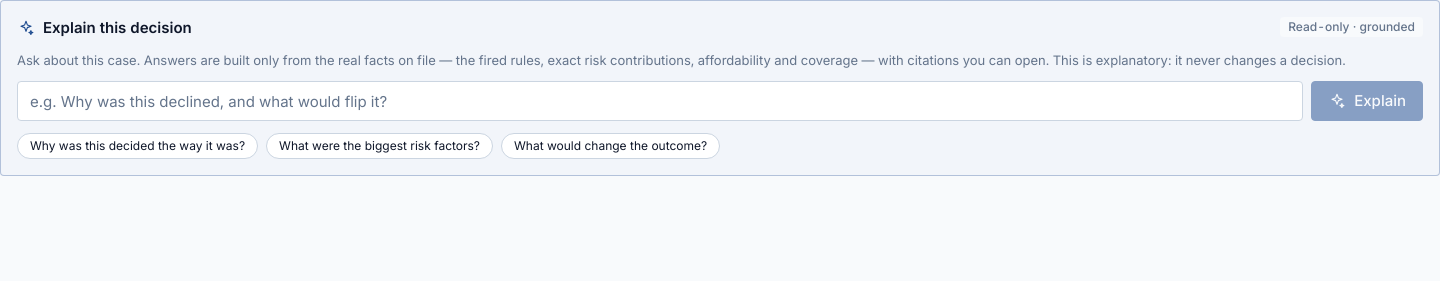
Test: ExplainDecisionPanel › labels a deterministic (LLM-off) answer honestly
Click the button "What were the biggest risk factors?".
click(380, 146)  # box x1=266 y1=133 x2=493 y2=159
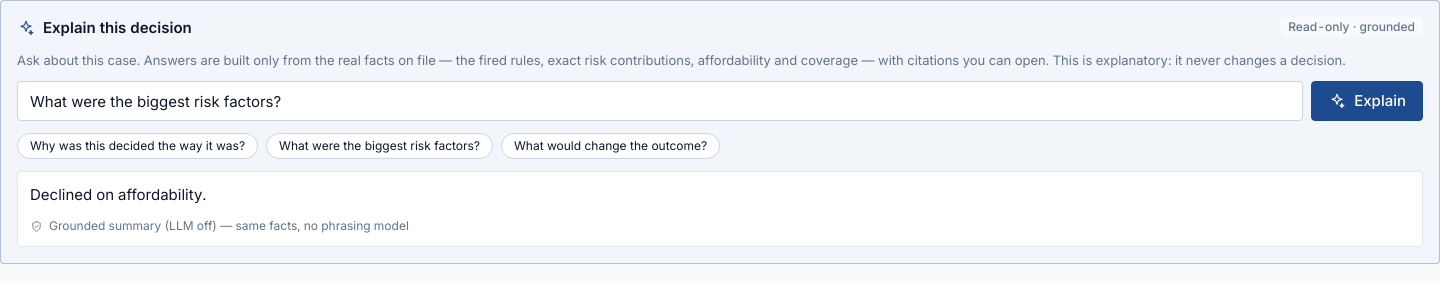
Expected: the text "Declined on affordability." is shown, x1=30 y1=185 x2=206 y2=204
Expected: the text "Grounded summary (LLM off) — same facts, no phrasing model" is shown, x1=30 y1=218 x2=409 y2=233
